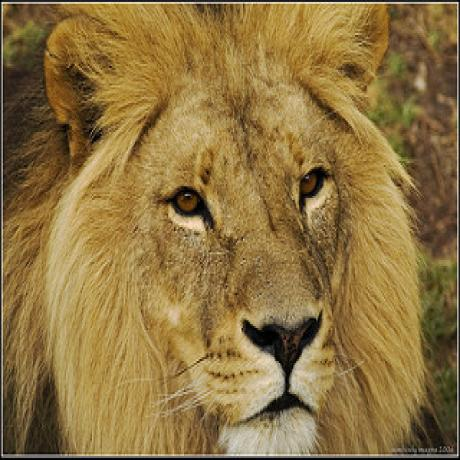Lion: (0, 0, 418, 452)
